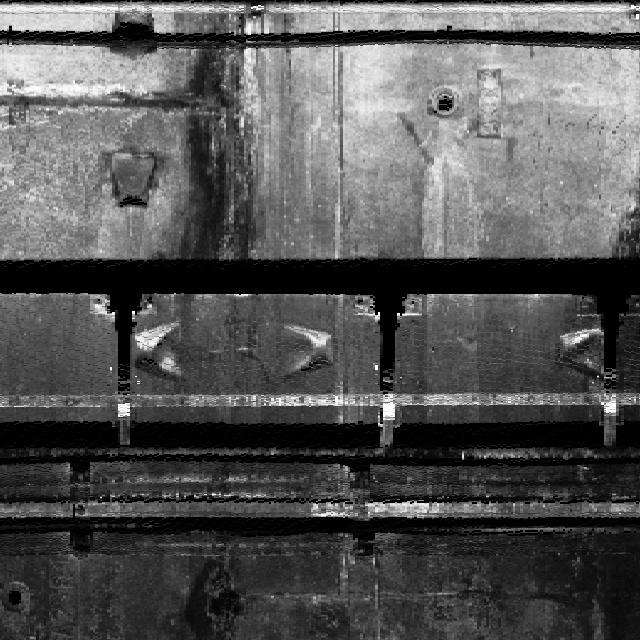leakage: (166, 5, 262, 260)
